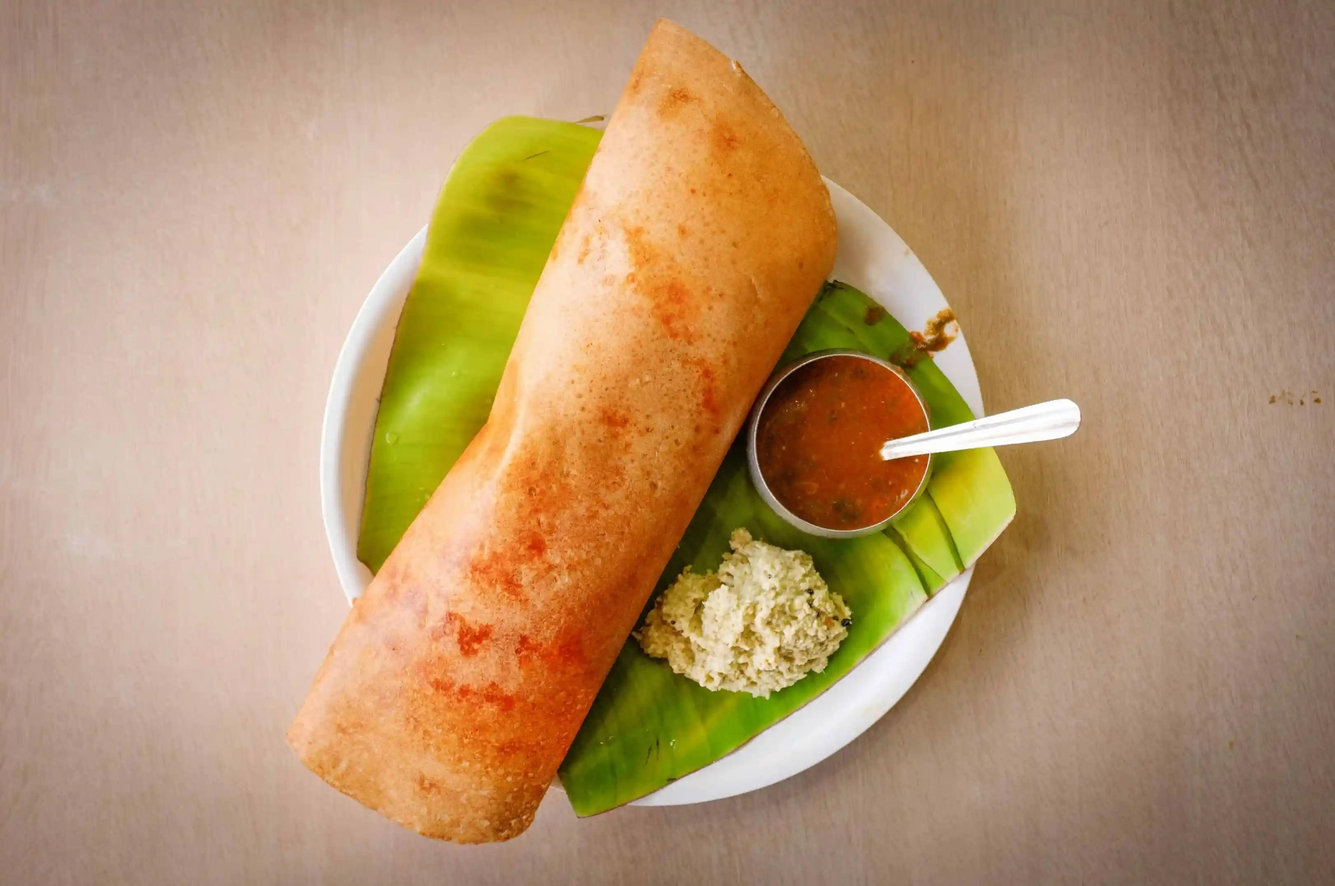CoconutChutney: (637, 526, 850, 696)
Dosa: (293, 19, 843, 840)
